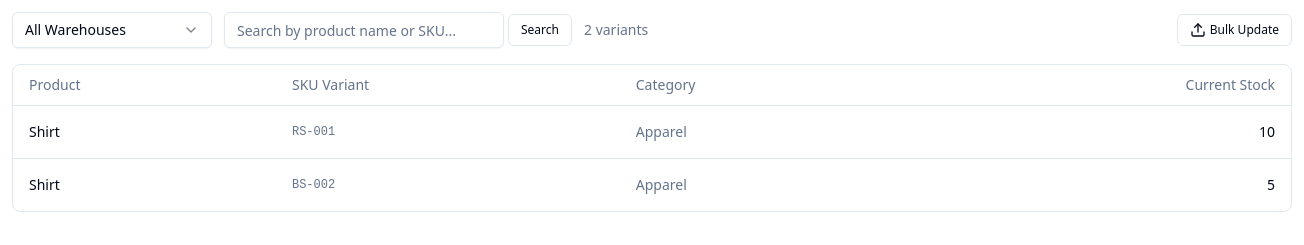
Scenario: inline +/−/= buttons › "+" button locks type as "add" — only + button remains, others hidden
The image size is (1304, 245).
Click the dropdown at (112, 30), box [12,12,212,48]
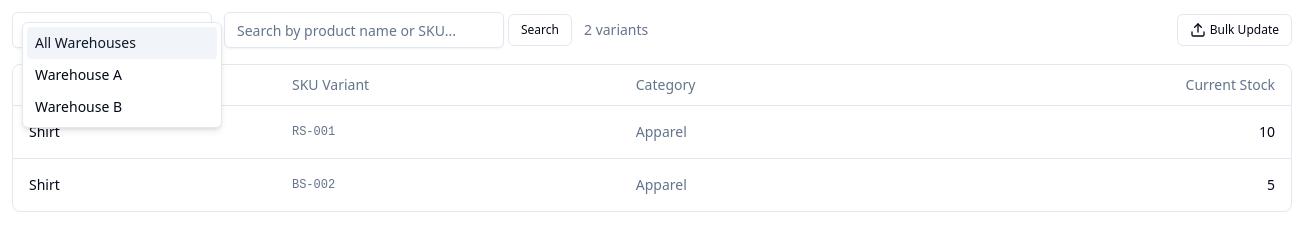
Click the option "Warehouse A" at (78, 74), box [35,65,122,84]
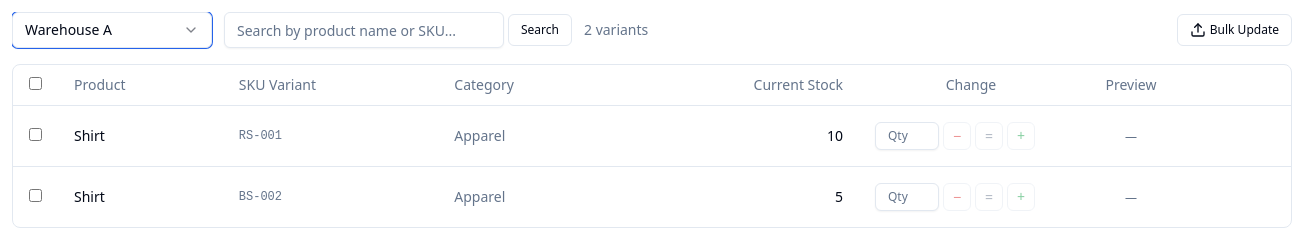
Type "5" into the number field with placeholder "Qty" in the row of "RS-001" at (907, 136), box [875,122,939,150]
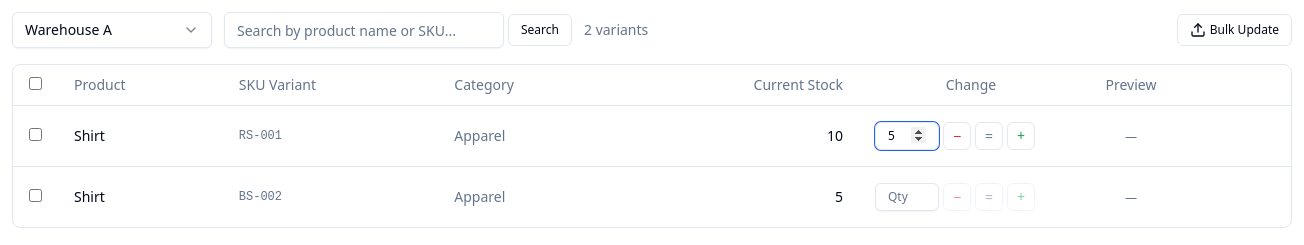
Click the button titled "Add" in the row of "RS-001" at (1021, 136), box [1007,122,1035,150]
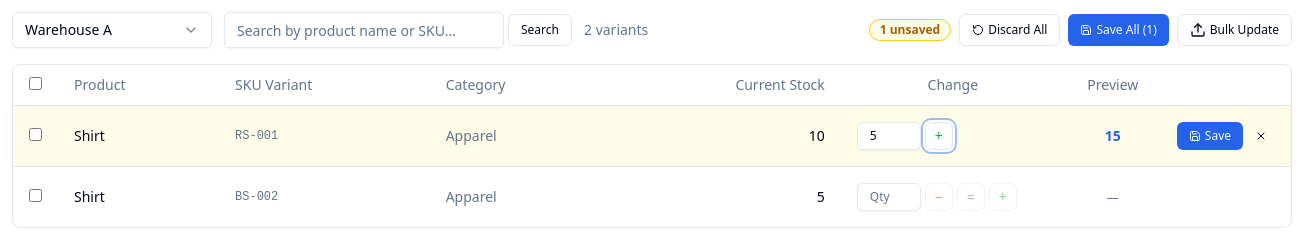
Expected: the button titled "Add" in the row of "RS-001" is shown, [925,122,953,150]
Expected: the button "Save All (1)" is shown, [1068,14,1169,46]
